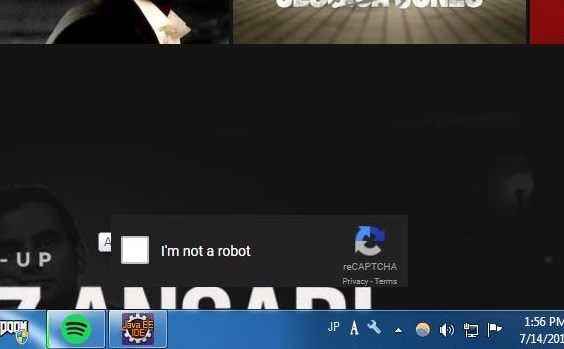captcha: (121, 235, 255, 264)
